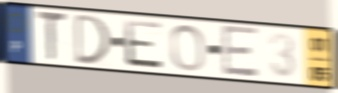3: (267, 31, 299, 81)
D: (73, 12, 112, 66)
E: (122, 17, 166, 72), (219, 23, 262, 79)
O: (168, 23, 207, 73)
T: (35, 9, 69, 64)
